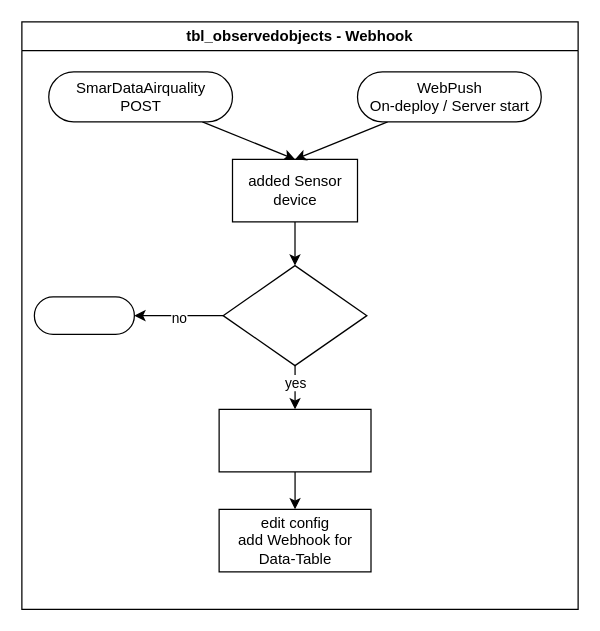
Some shapes in this 600 by 631 pixel diagram are drawn without their labels. The box of each missing label's shape, as (x1, y1, x2, y2) in pixels:
create new Group SmartDataAirquality: (218, 408, 371, 472)
end: (33, 296, 134, 334)
mobile Device?: (222, 264, 367, 366)
